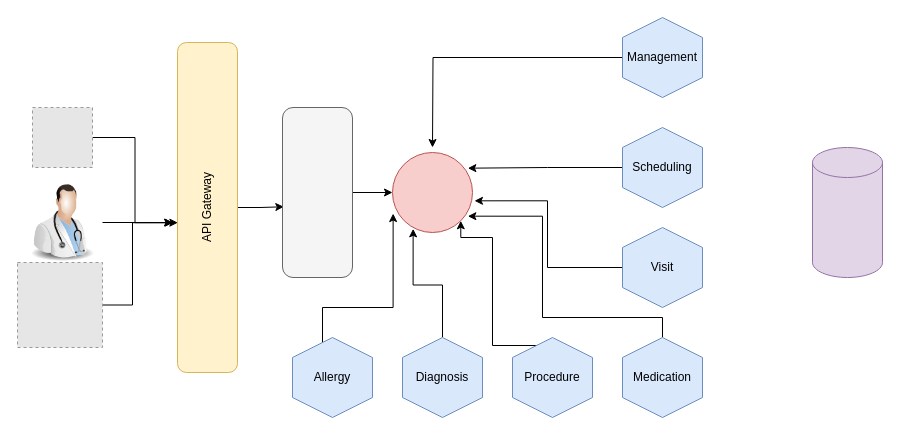
The diagram is 900 pixels wide and 435 high, and some of its shapes have lost their labels. Grey dashed boxes stand in for pictures. The shapes that lost their labels are listed below. From the top down, each one's centre as x and y in pixels, then its label:
At point (317, 192): "KeyCloak".
At point (432, 192): "Discovery Service".
At point (847, 212): "Database".
